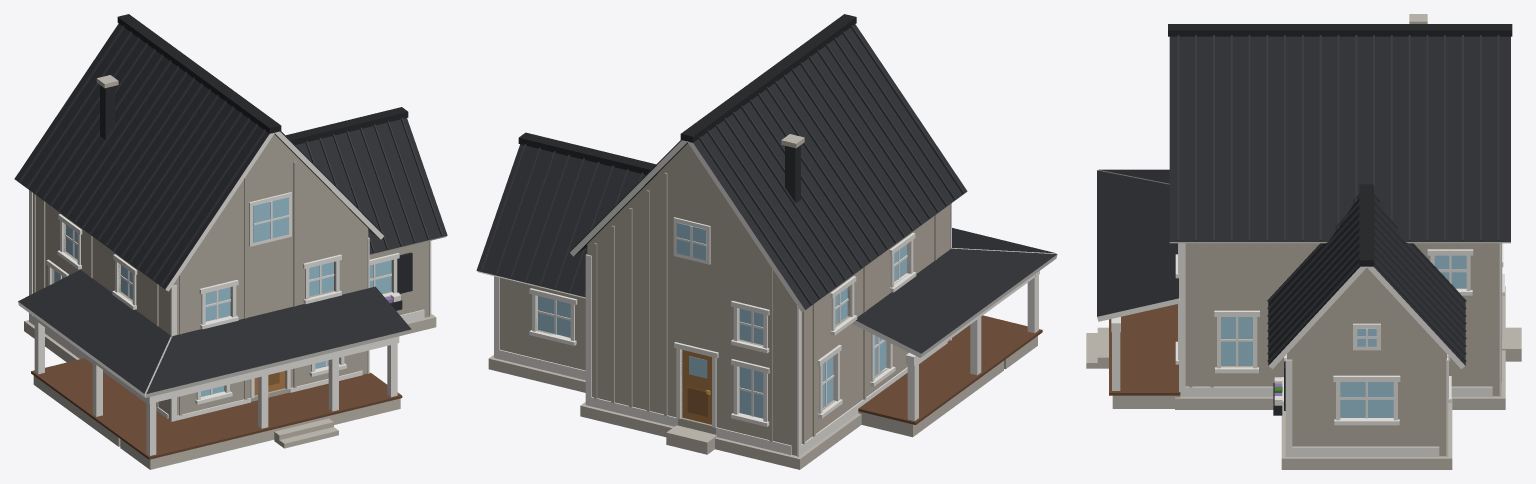
Rendered from base-07-level2.glb.
The picture shows the model from 3 angles, left to right: view 1: azimuth 30°, elevation 25°; view 2: azimuth 150°, elevation 25°; view 3: azimuth 270°, elevation 25°; orthographic projection. The views are drawn at different scales.
Parts seen in each view (by area): view 1: base_house_7_finished, piece_addition; view 2: base_house_7_finished, piece_addition; view 3: base_house_7_finished, piece_addition.
Boxes of the visible parts, bbox=[...] form: base_house_7_finished: bbox=[14, 14, 411, 469]; piece_addition: bbox=[286, 107, 447, 333]; base_house_7_finished: bbox=[570, 14, 1057, 469]; piece_addition: bbox=[476, 132, 655, 392]; base_house_7_finished: bbox=[1086, 14, 1521, 409]; piece_addition: bbox=[1267, 184, 1466, 469].
Size of the model in its own units: 13.93 by 10.13 by 12.24.
